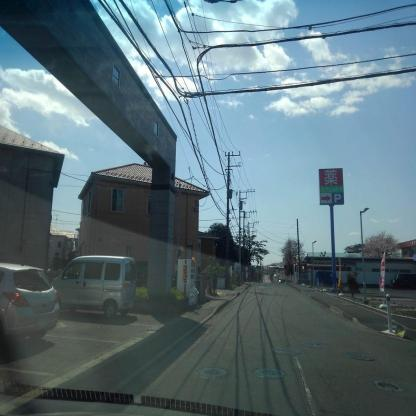Someiyoshino: (358, 228, 406, 262), (278, 236, 308, 270)
